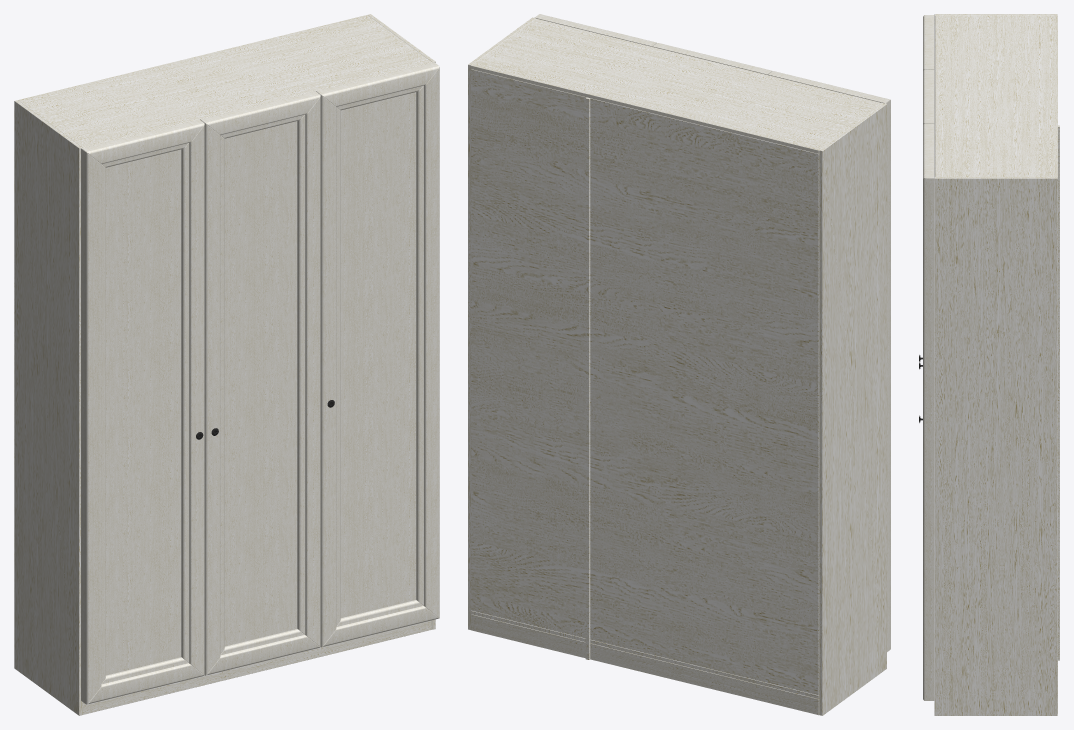
File: Wardrobe 10.FBX
3 renders of one model, left to right at view 1: azimuth 30°, elevation 25°; view 2: azimuth 150°, elevation 25°; view 3: azimuth 270°, elevation 25°, orthographic. The views are drawn at different scales.
Parts seen in each view (by area): view 1: door A, door C, door B, wardrobe 10; view 2: wardrobe 10, door A, door C, door B; view 3: wardrobe 10, door C, door A, door B.
Part boxes in pixels (<box>): door A: <box>81,119,204,704</box>; door C: <box>316,62,439,647</box>; door B: <box>200,91,320,675</box>; wardrobe 10: <box>14,14,435,715</box>; wardrobe 10: <box>468,17,886,715</box>; door A: <box>768,71,890,651</box>; door C: <box>534,14,656,46</box>; door B: <box>652,43,772,74</box>; wardrobe 10: <box>934,14,1059,715</box>; door C: <box>919,123,934,700</box>; door A: <box>919,15,934,361</box>; door B: <box>919,69,934,369</box>.
Size of the model in its own units: 148 by 226 by 53.66.
3 materials, 2 textured.
